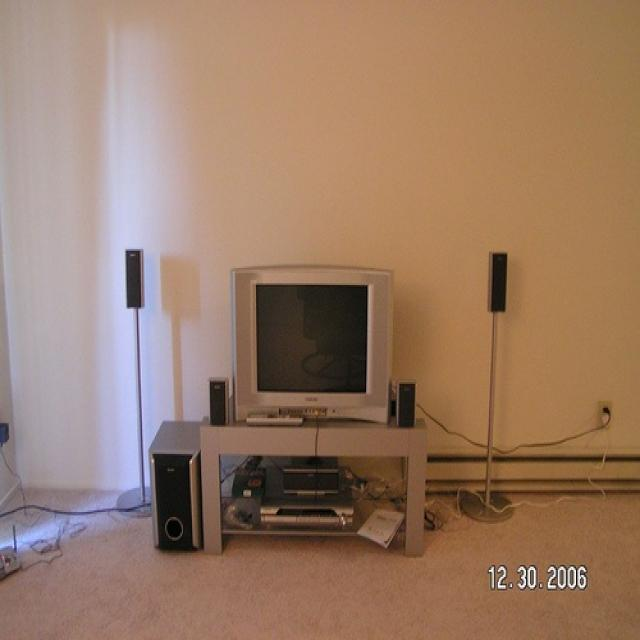tvmonitor: (236, 264, 392, 424)
